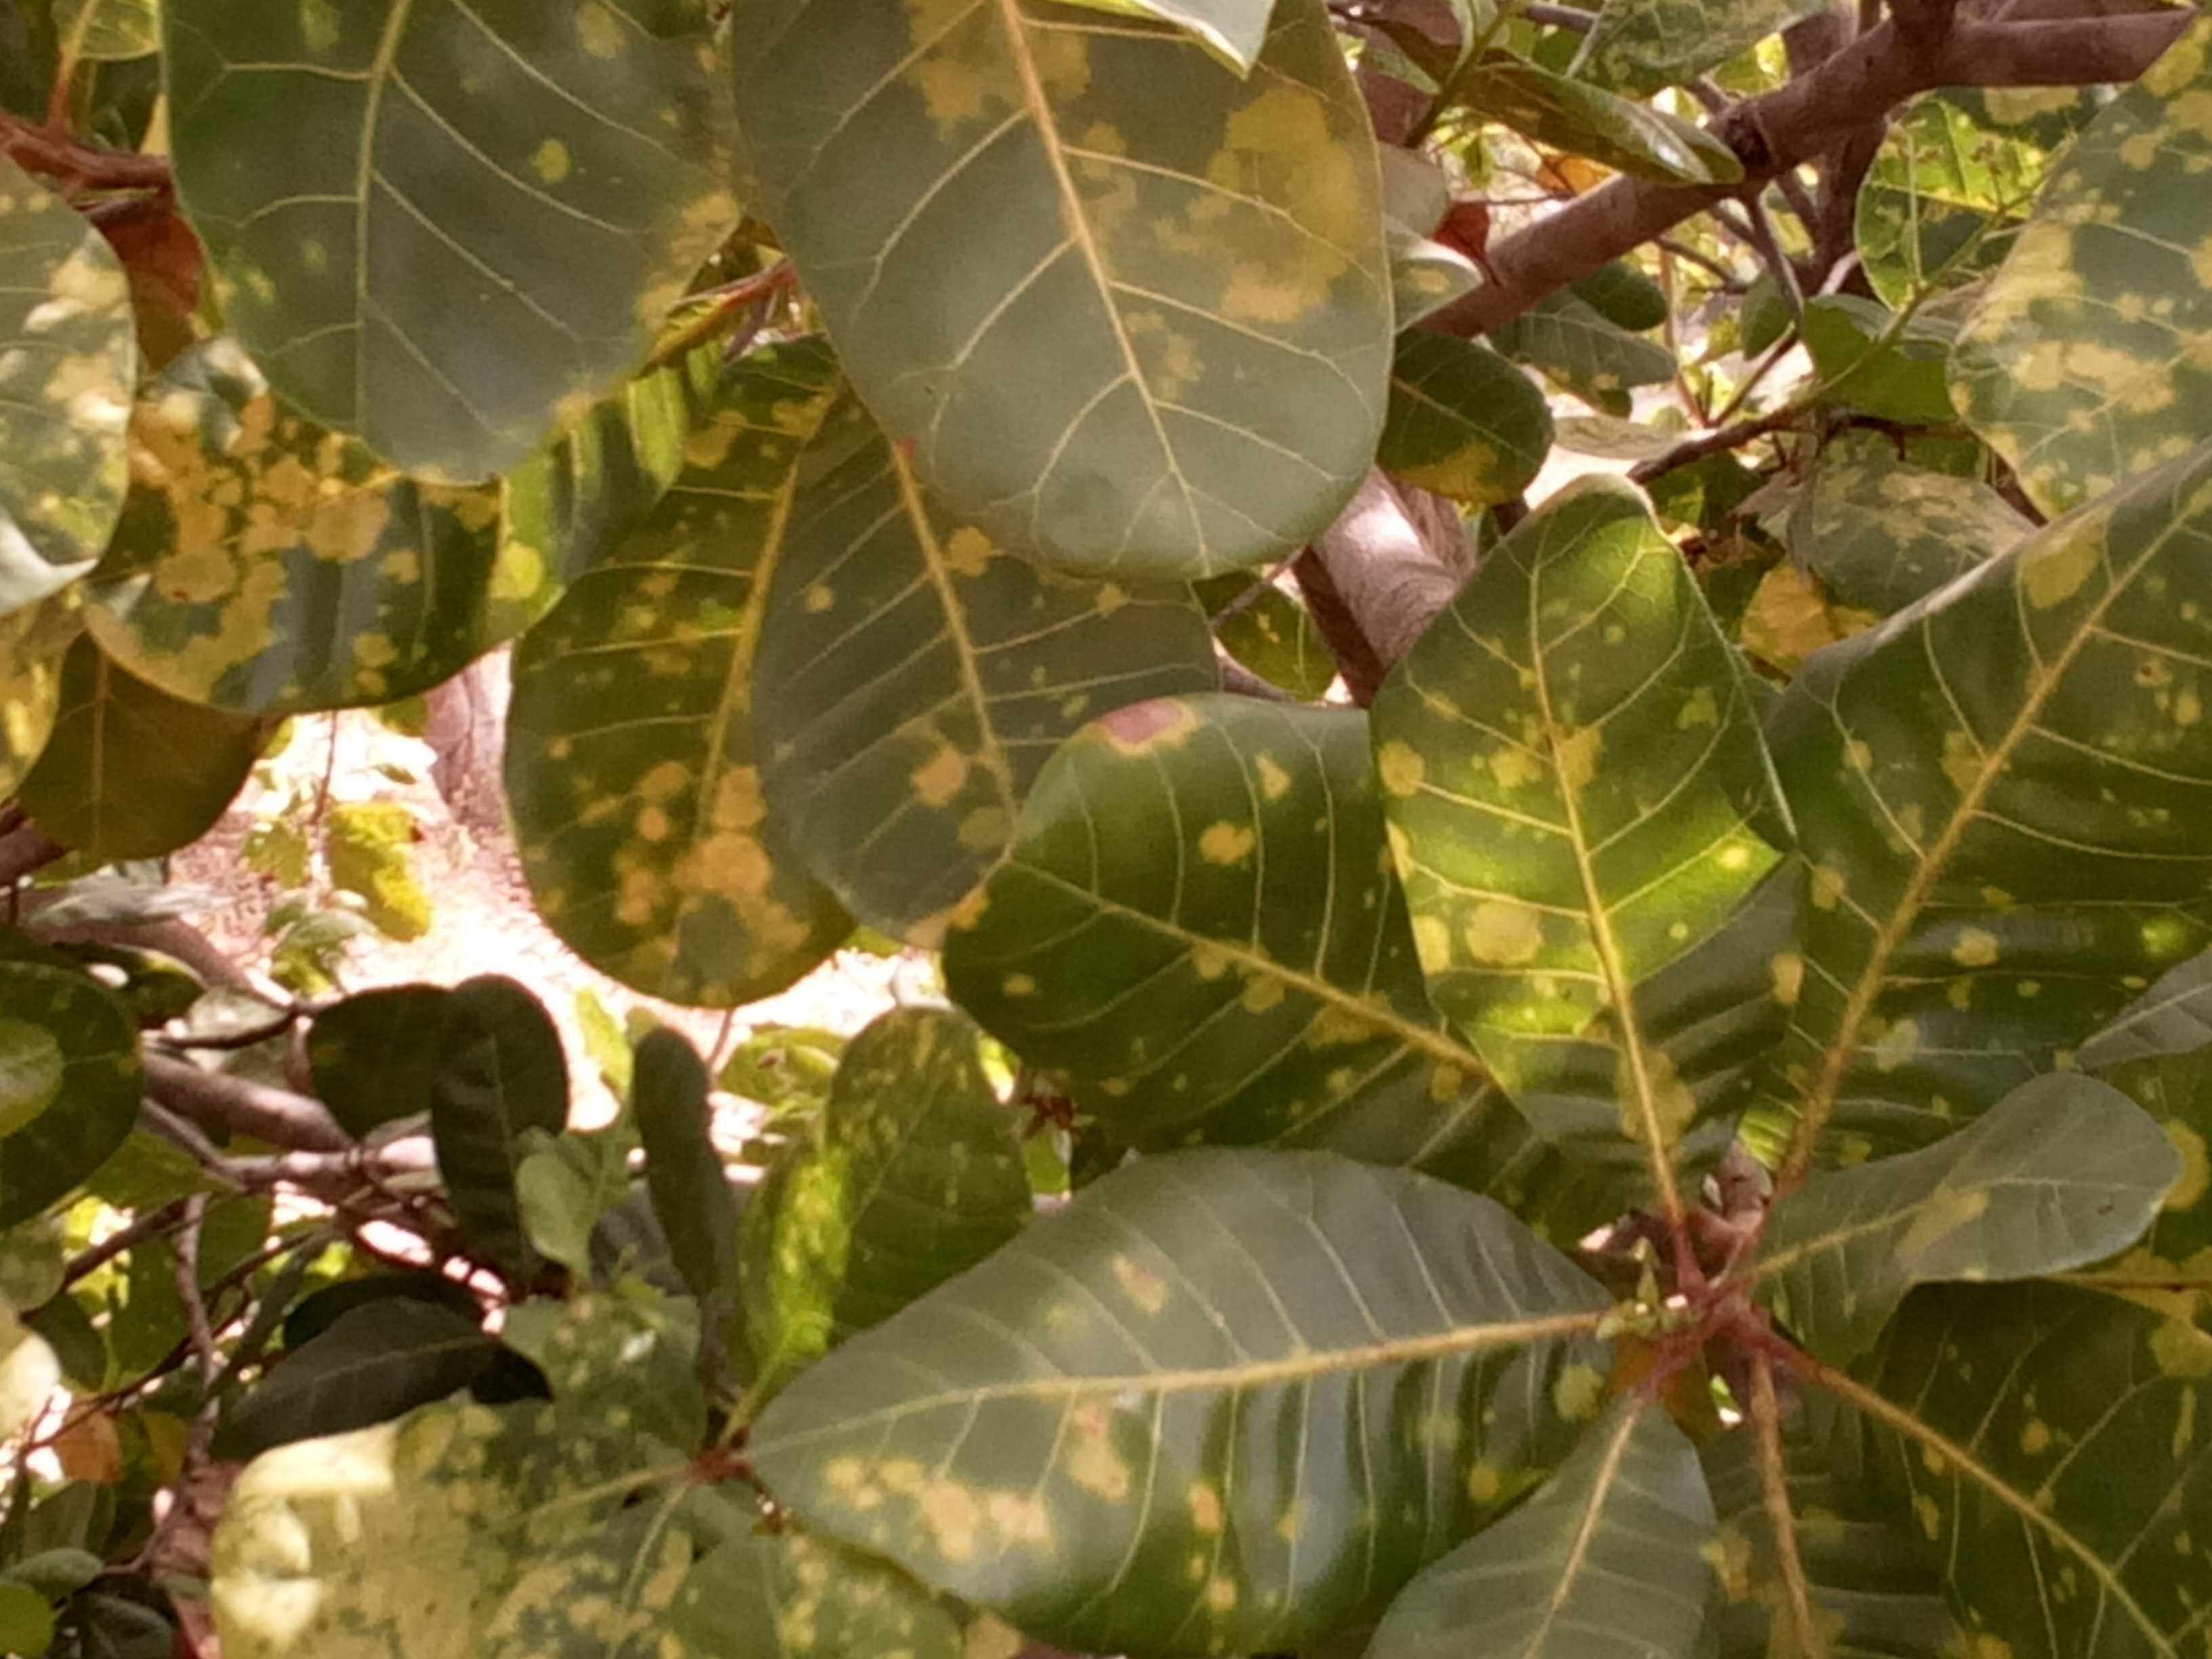Carence minérale: (752, 1145, 1623, 1629), (745, 0, 1465, 575), (61, 272, 820, 723), (489, 329, 963, 1023), (902, 701, 1559, 1155), (155, 0, 770, 467), (1360, 469, 1777, 1155), (1818, 464, 2212, 1061), (1921, 14, 2212, 537)
